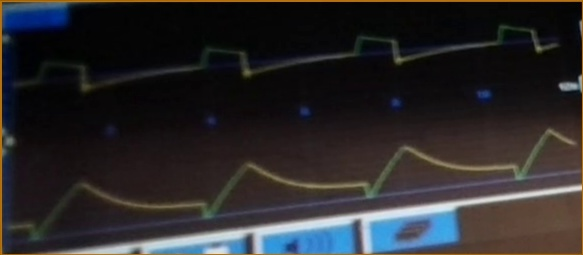Flow: (20, 24, 558, 97)
Leakage Volume: (16, 127, 575, 243)
